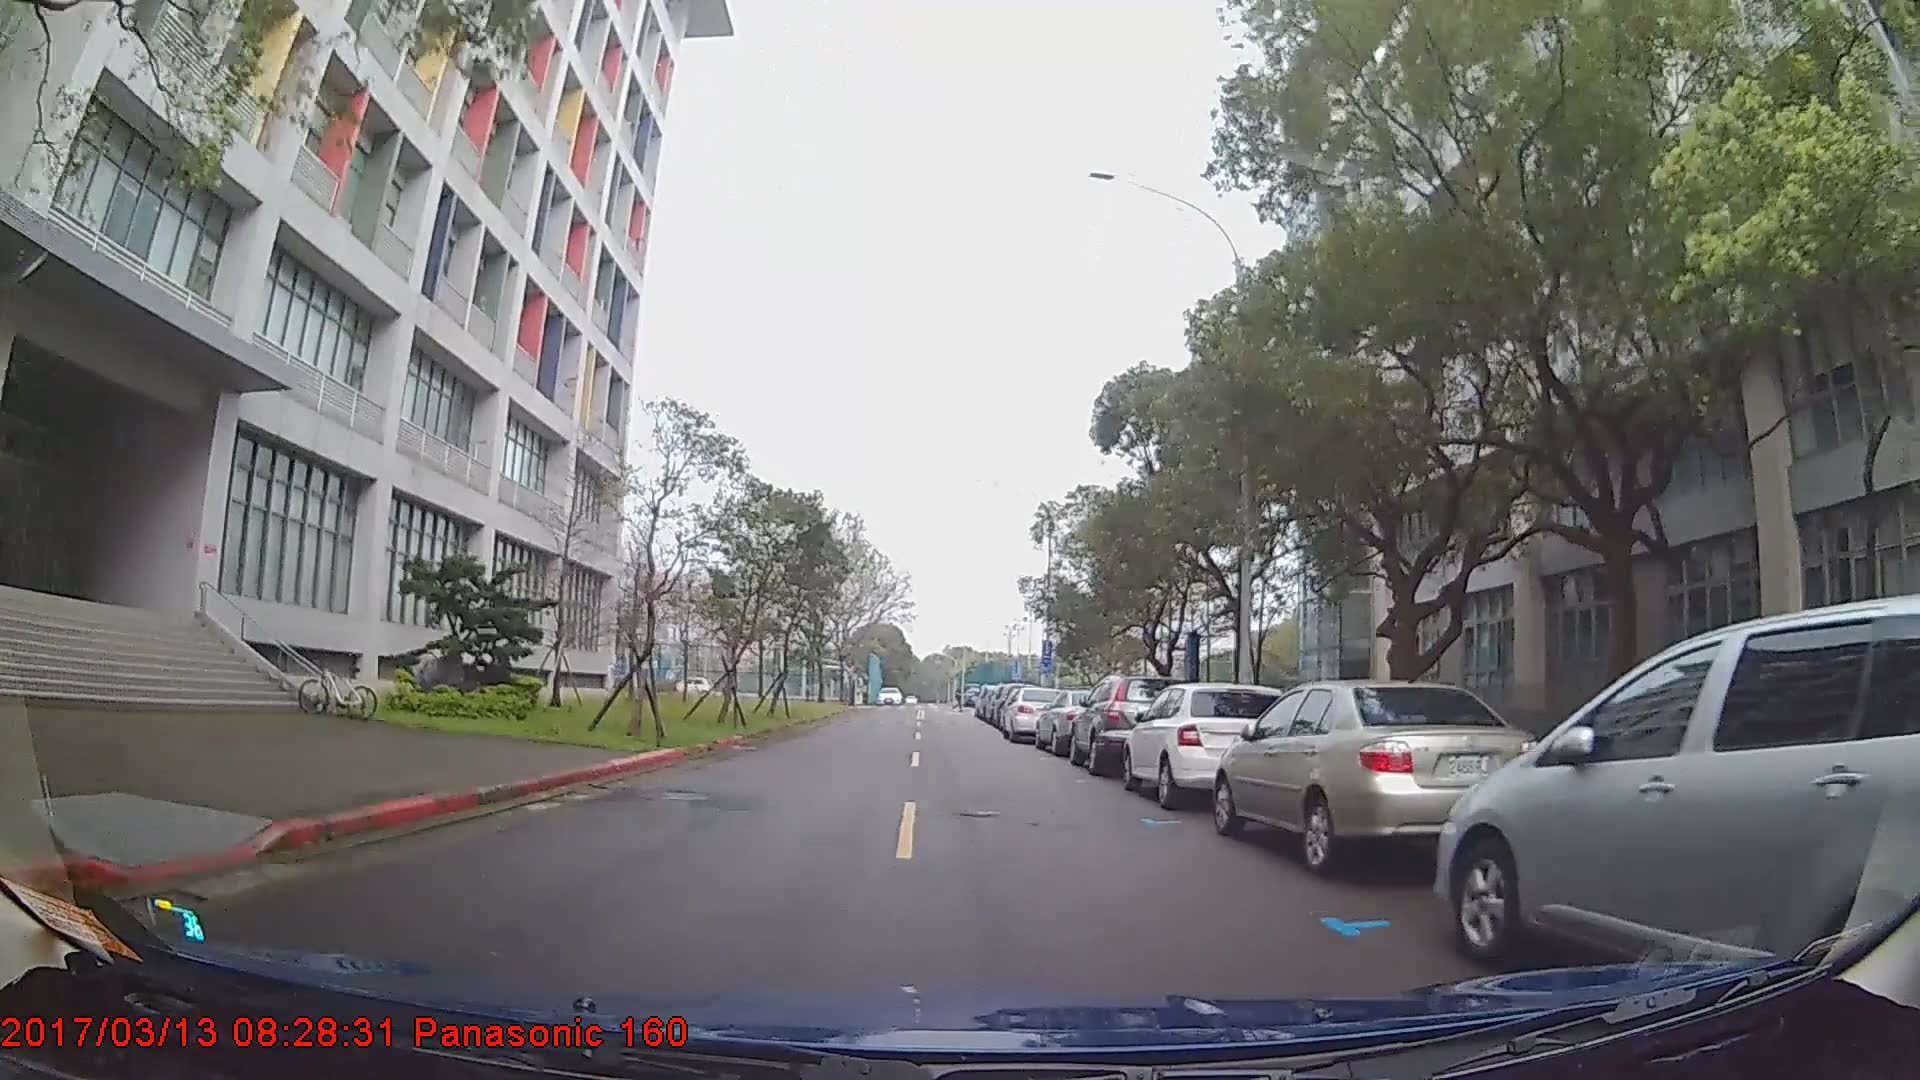vehicle: (1433, 589, 1920, 1015), (1216, 676, 1542, 874), (1124, 682, 1290, 808), (1067, 675, 1189, 775), (1033, 686, 1120, 756), (1000, 684, 1065, 744)
